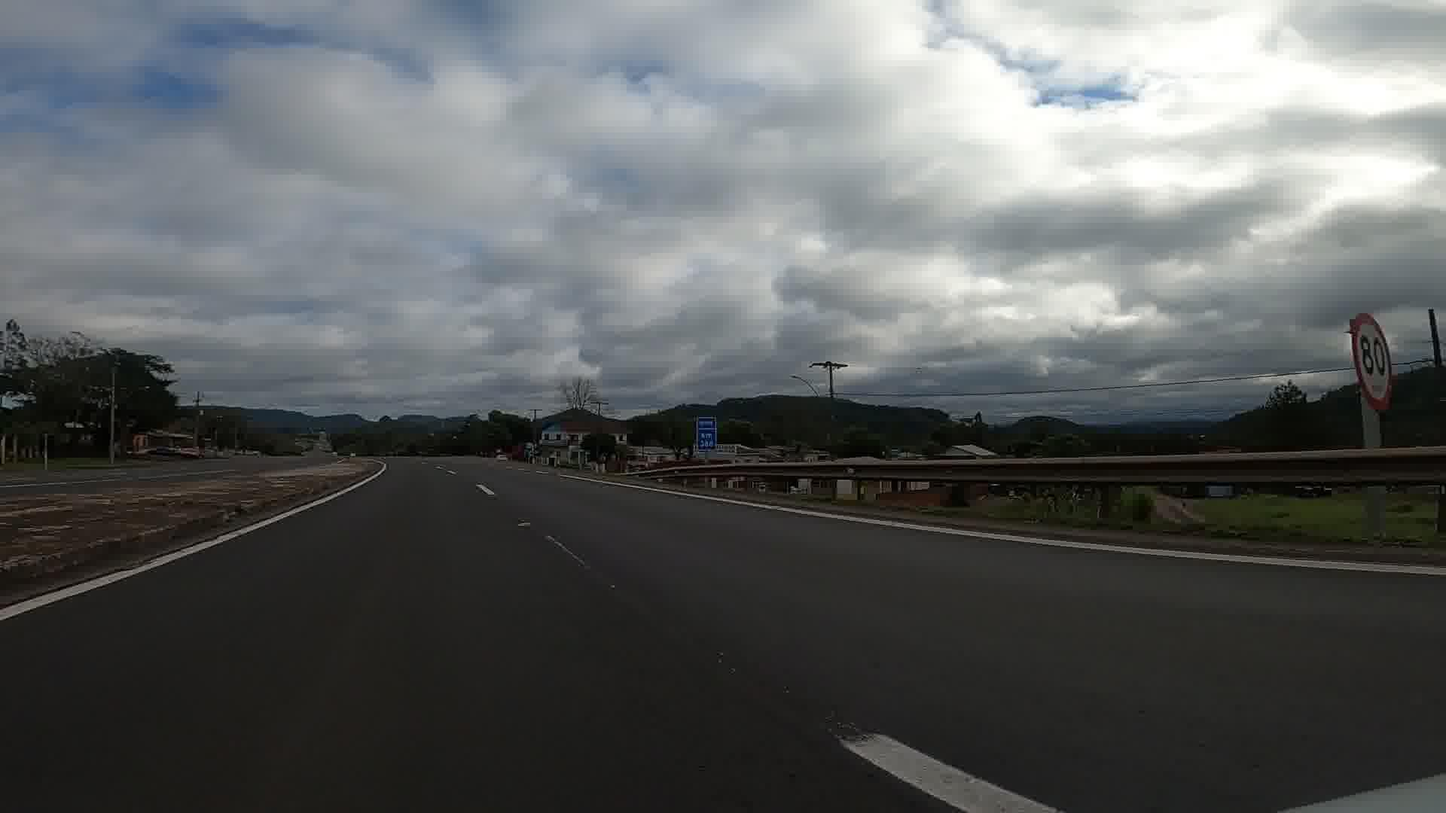R-19: (1347, 312, 1397, 405)
